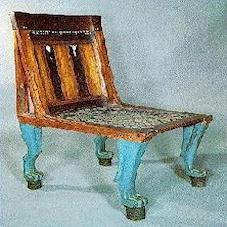chair: (3, 4, 215, 223)
